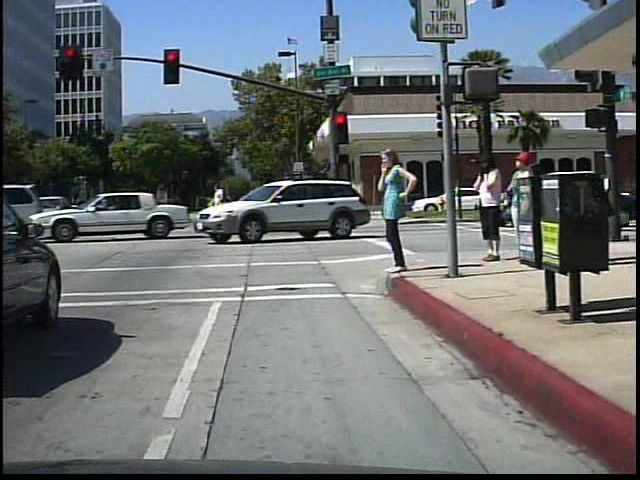person: (373, 146, 417, 282), (466, 148, 505, 264), (501, 146, 541, 250)
